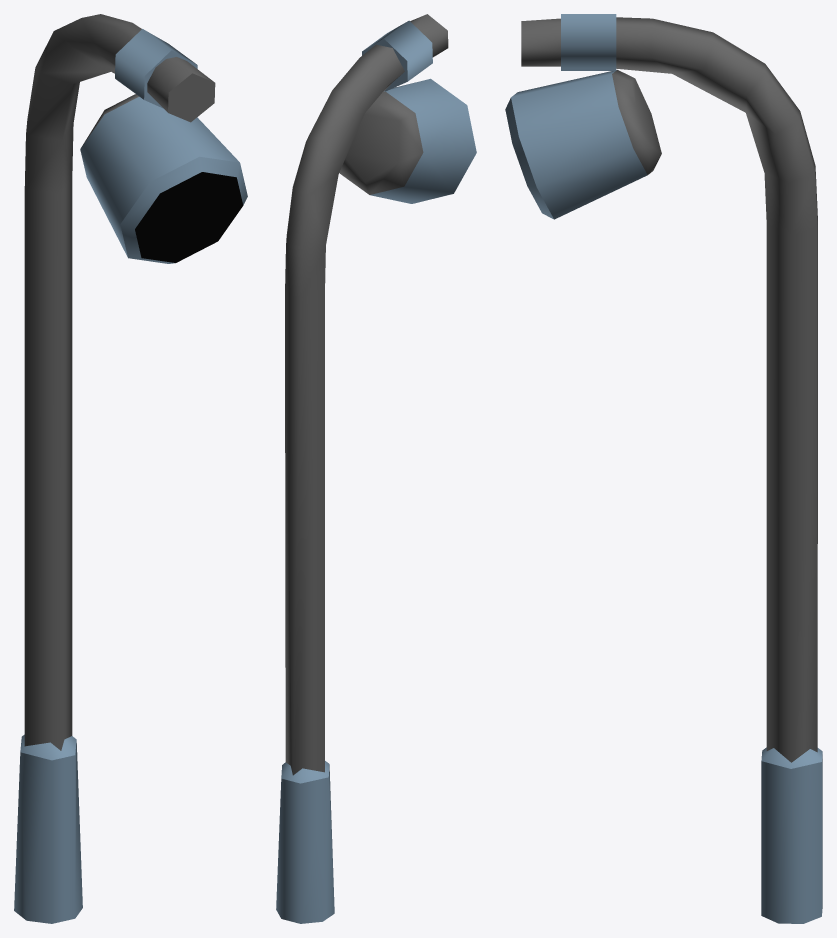
The model's file is env_building_lamppost_lod2.fbx.
3 views of the same model, side by side, from view 1: azimuth 30°, elevation 25°; view 2: azimuth 150°, elevation 25°; view 3: azimuth 270°, elevation 25° (orthographic). The views are drawn at different scales.
Parts seen in each view (by area): view 1: polySurface1550; view 2: polySurface1550; view 3: polySurface1550.
Part boxes in pixels (x1,y1,x2,y2): polySurface1550: (14,14,247,923); polySurface1550: (276,14,476,923); polySurface1550: (505,14,822,923).
Size of the model in its own units: 10.99 by 77.51 by 24.84.
